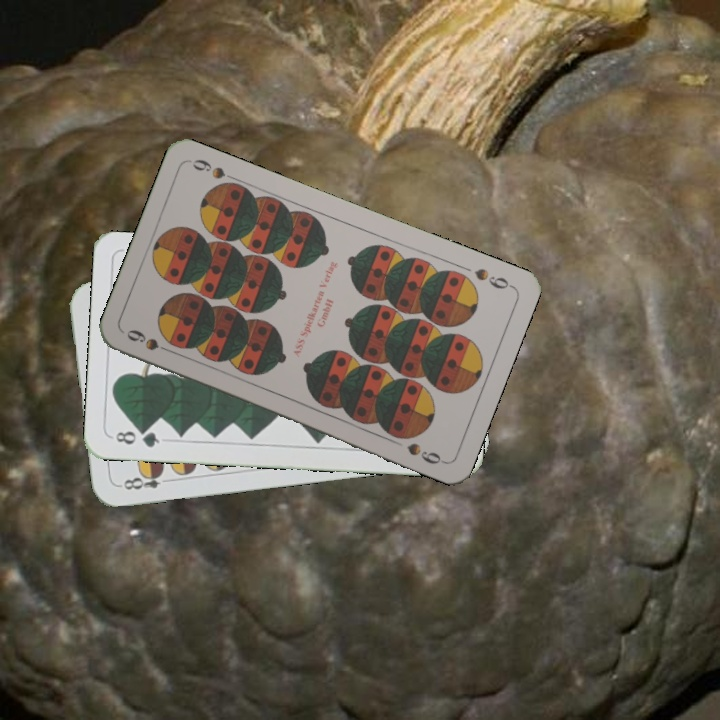E8: (116, 467, 166, 492)
G8: (111, 426, 162, 450)
S9: (122, 325, 178, 357), (470, 264, 515, 292)
